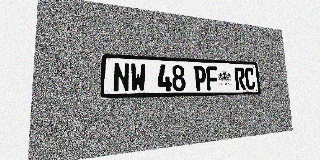4: (157, 64, 172, 91)
8: (172, 65, 186, 91)
C: (244, 68, 256, 90)
F: (206, 66, 218, 90)
N: (113, 62, 130, 92)
P: (194, 66, 207, 91)
R: (234, 67, 246, 90)
W: (130, 63, 146, 92)
